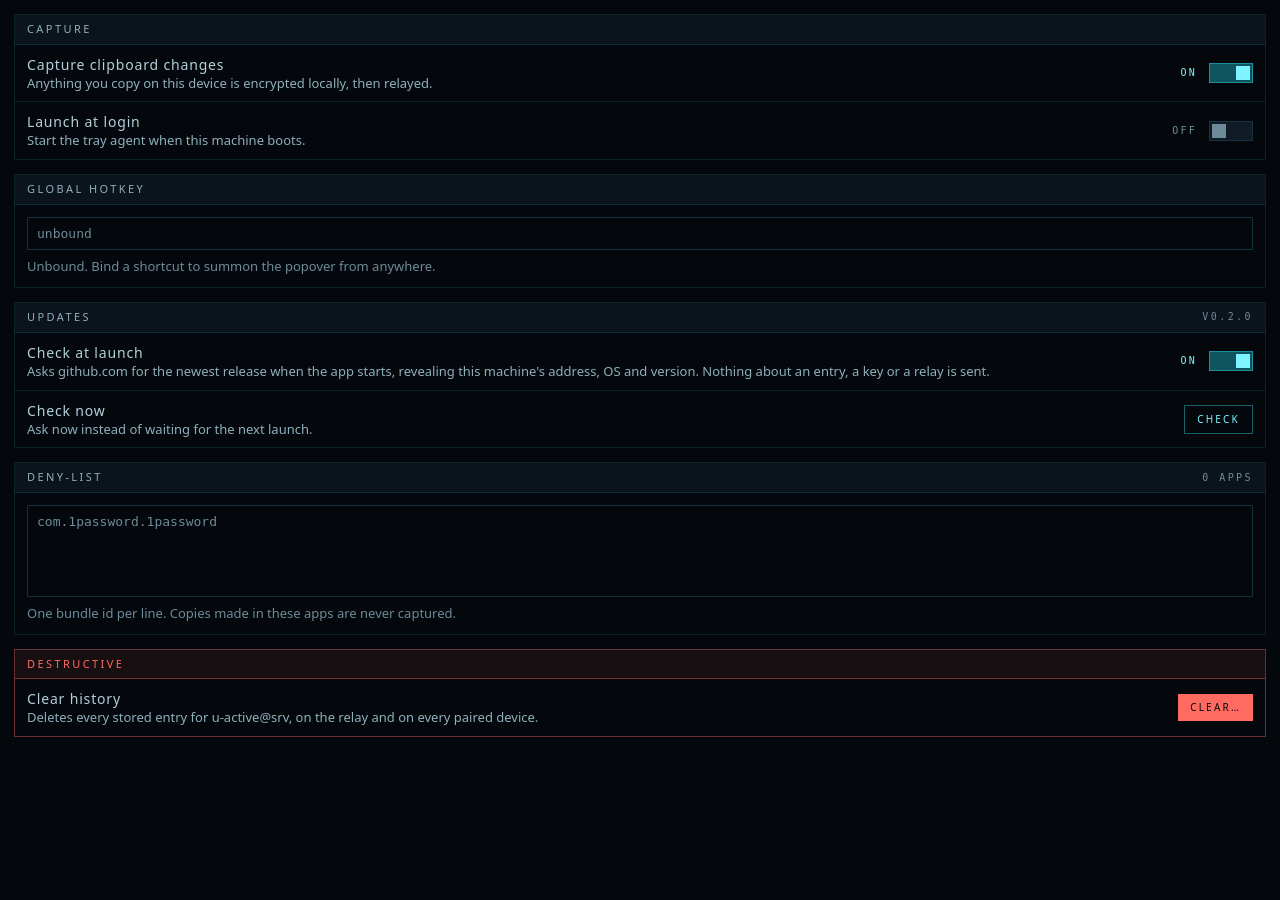
Test case: SettingsSection › clears history only after the confirm strip is accepted
The image size is (1280, 900).
Step 1. Click the button with test id "clear-history" → (1216,708), box [1178,694,1253,721]
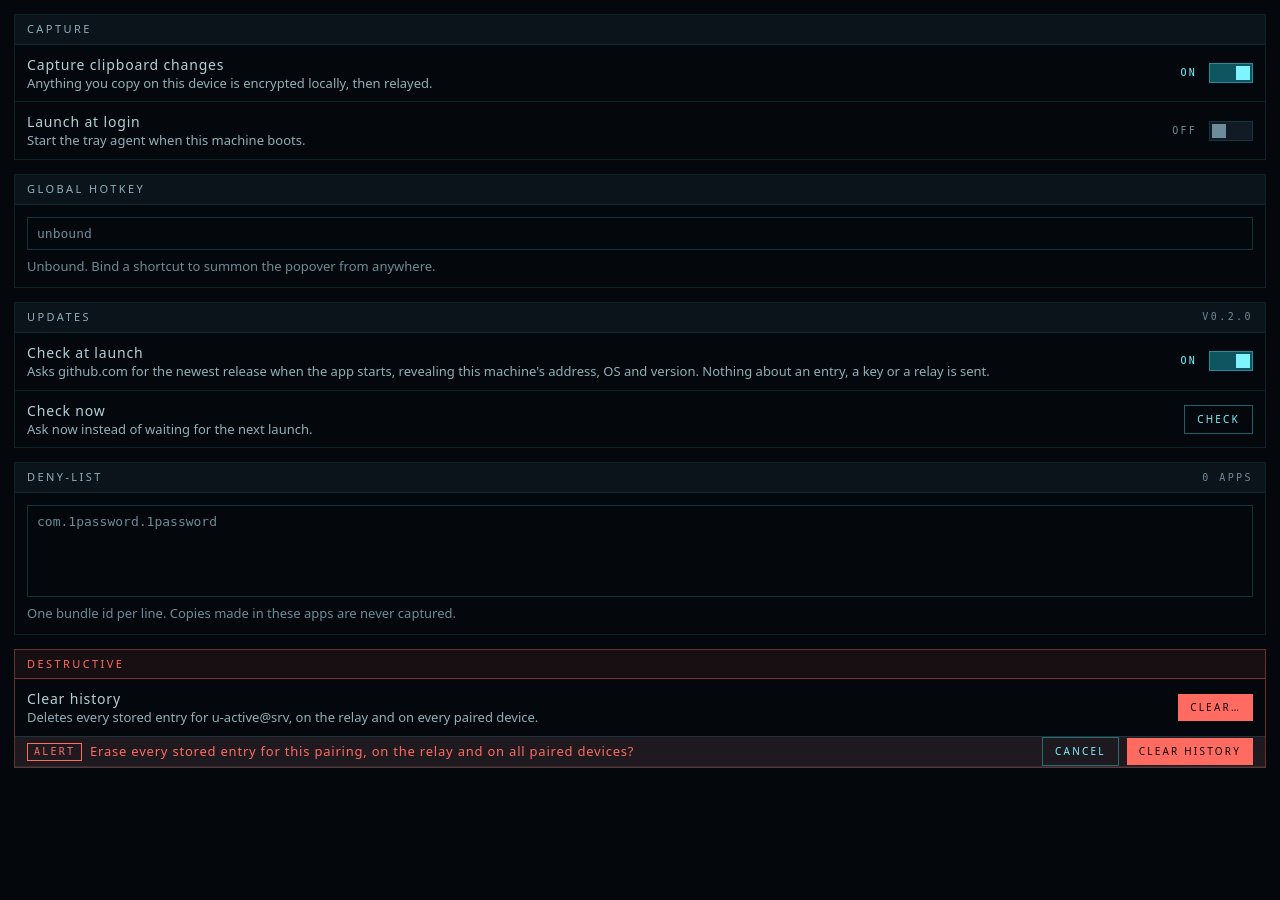
Check: the message with test id "confirm-strip-clear-history" is shown, box [15,736,1265,767]
Step 2. Click the button with test id "confirm-clear-history" → (1190,752), box [1127,738,1253,765]
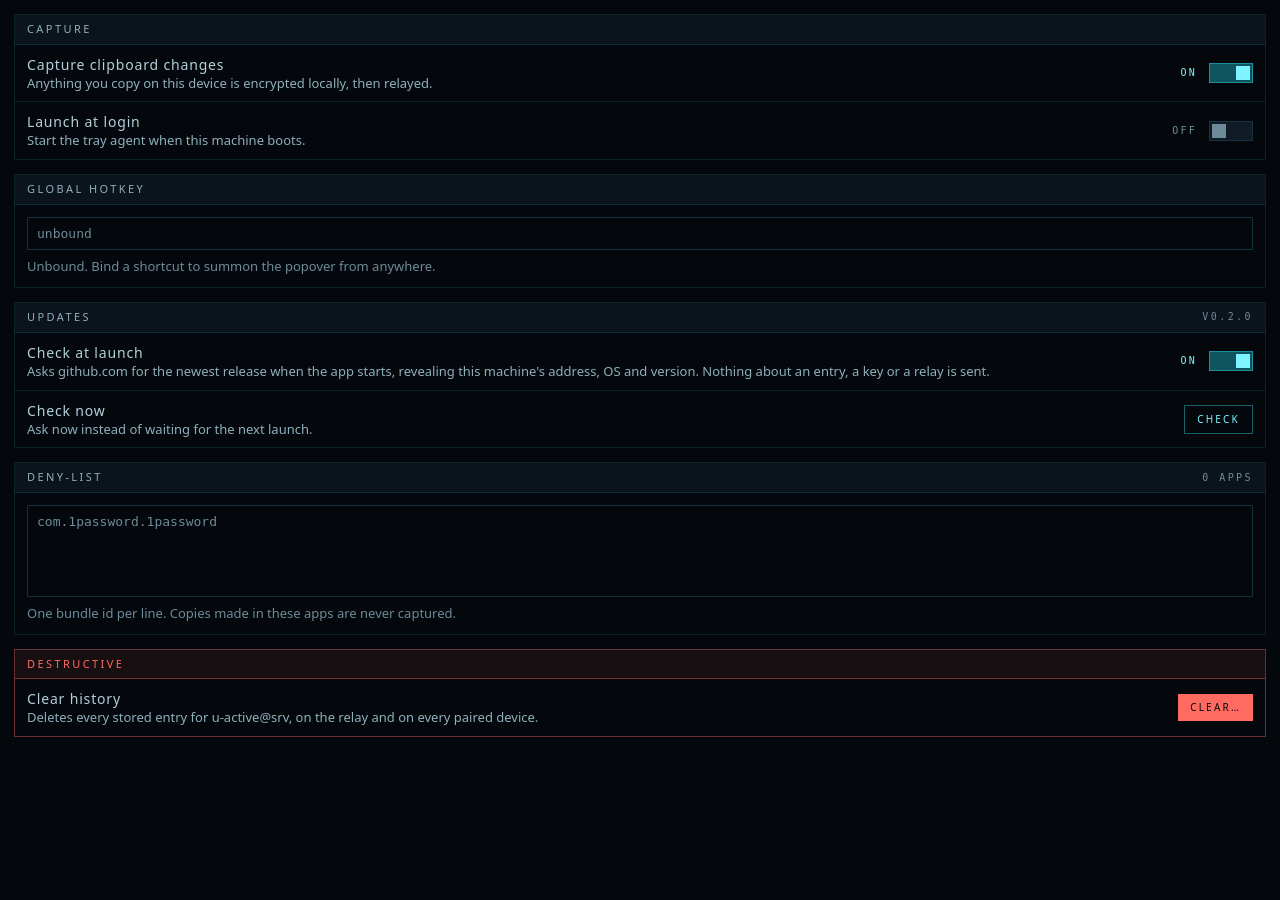
Check: the message with test id "confirm-strip-clear-history" is gone
